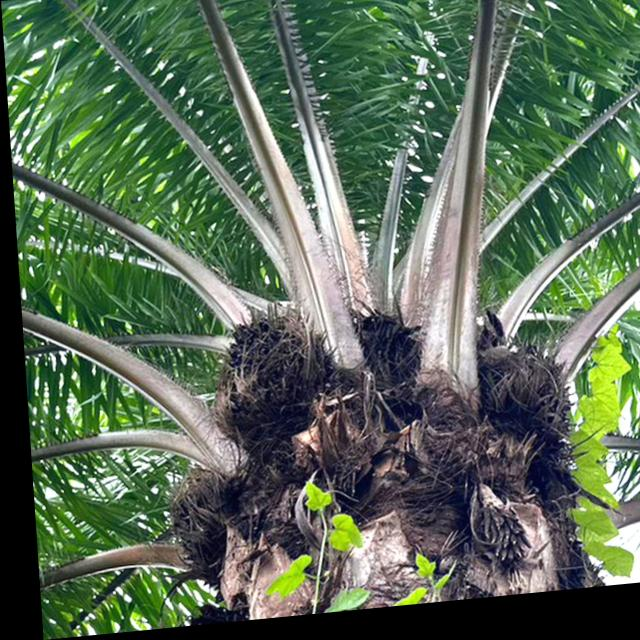unripe: (194, 298, 342, 462)
